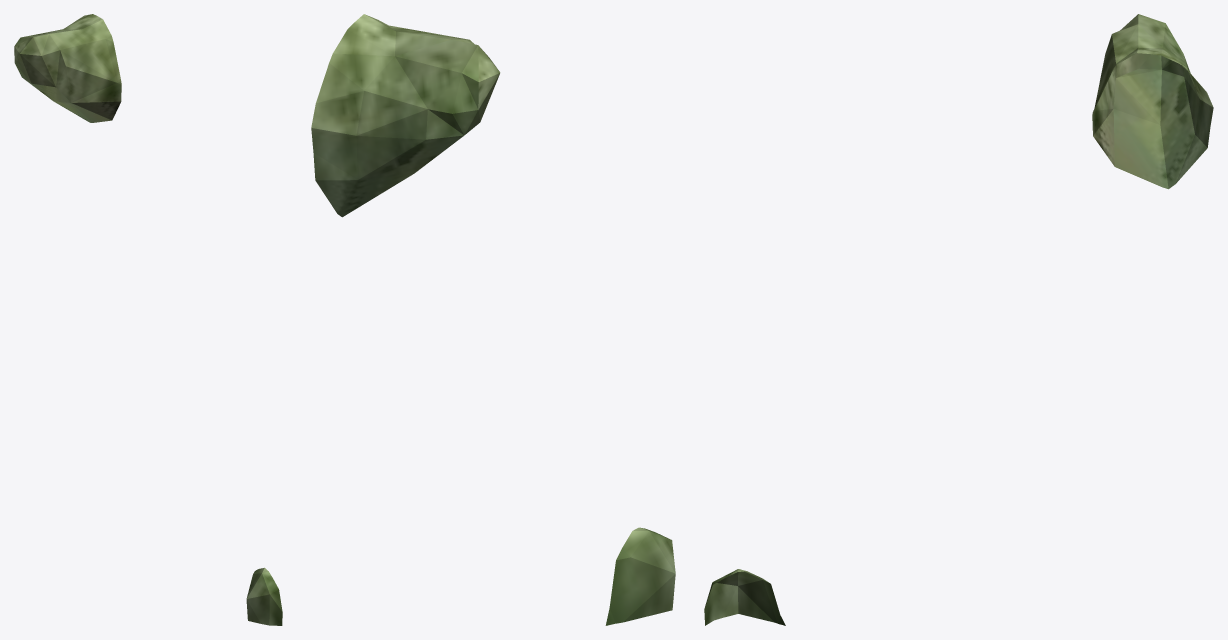
3 renders of one model, left to right at view 1: azimuth 30°, elevation 25°; view 2: azimuth 150°, elevation 25°; view 3: azimuth 270°, elevation 25°, orthographic. The views are drawn at different scales.
Size of the model in its own units: 0.4012 by 2.2 by 1.77.
Materials: 1 (1 with a texture image).
